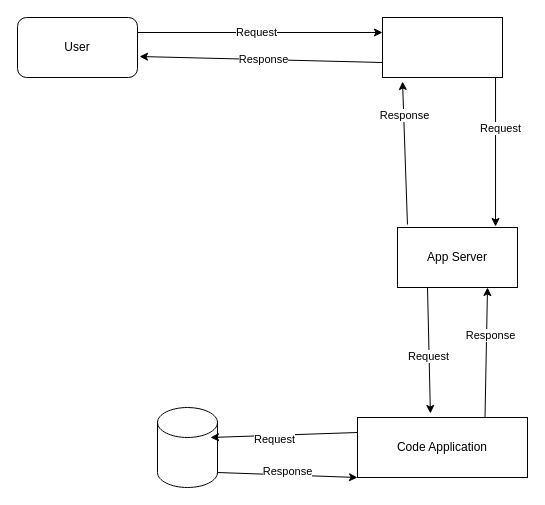
The diagram is 545 pixels wide and 505 high, and some of its shapes have lost their labels. Each missing label, with the centre of its shape:
"MySQL" belongs at point 187,447.
"web browser" belongs at point 442,47.
